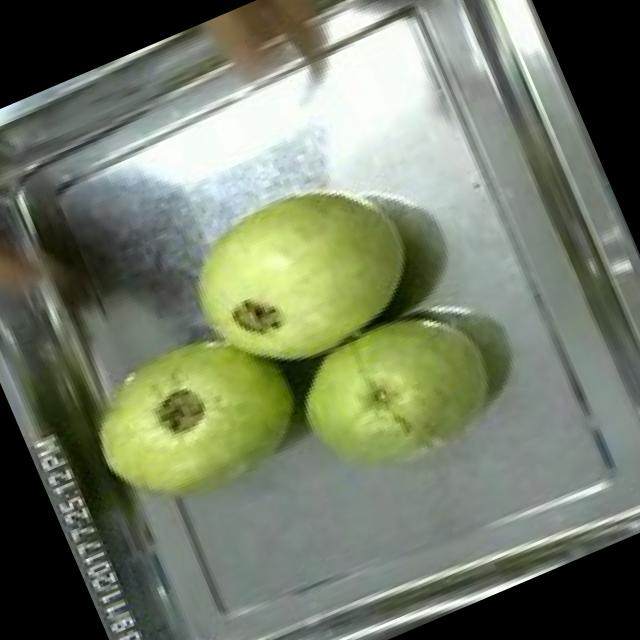Fruit: (160, 148, 442, 404), (54, 292, 331, 540), (268, 280, 520, 510)
